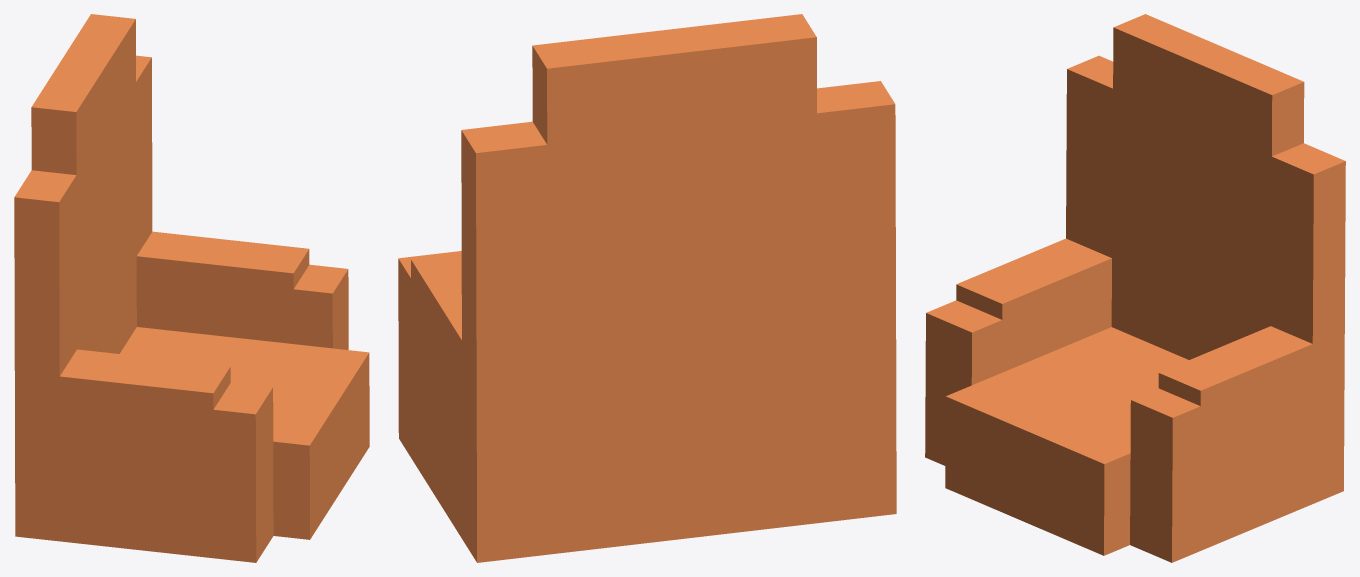
The model's file is ChairDemo.dae.
3 renders of one model, left to right at view 1: azimuth 30°, elevation 25°; view 2: azimuth 150°, elevation 25°; view 3: azimuth 270°, elevation 25°, orthographic. The views are drawn at different scales.
Visible parts, largest first — view 1: HoloSim_Chair; view 2: HoloSim_Chair; view 3: HoloSim_Chair.
Boxes of the visible parts, x1=… form: HoloSim_Chair: x1=14, y1=14, x2=369, y2=562; HoloSim_Chair: x1=398, y1=14, x2=896, y2=562; HoloSim_Chair: x1=925, y1=14, x2=1345, y2=562.
Bounding box in the file's own units: 47.58 × 47.8 × 49.2.
